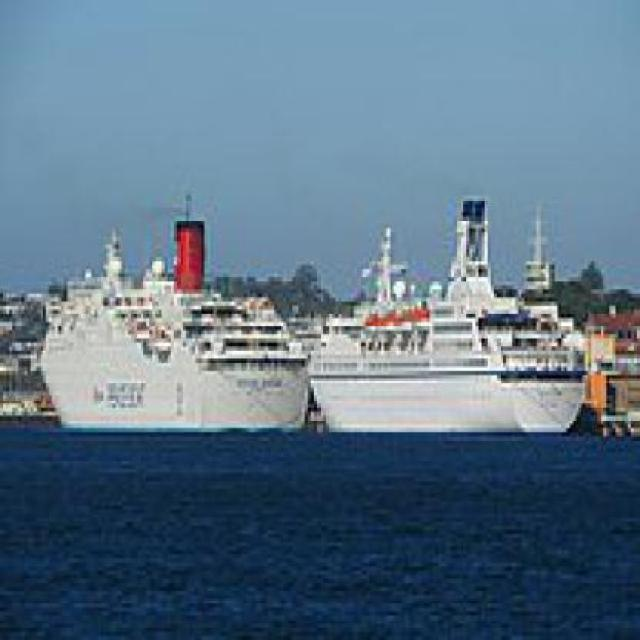cruise: (303, 193, 601, 450), (29, 200, 321, 437)
